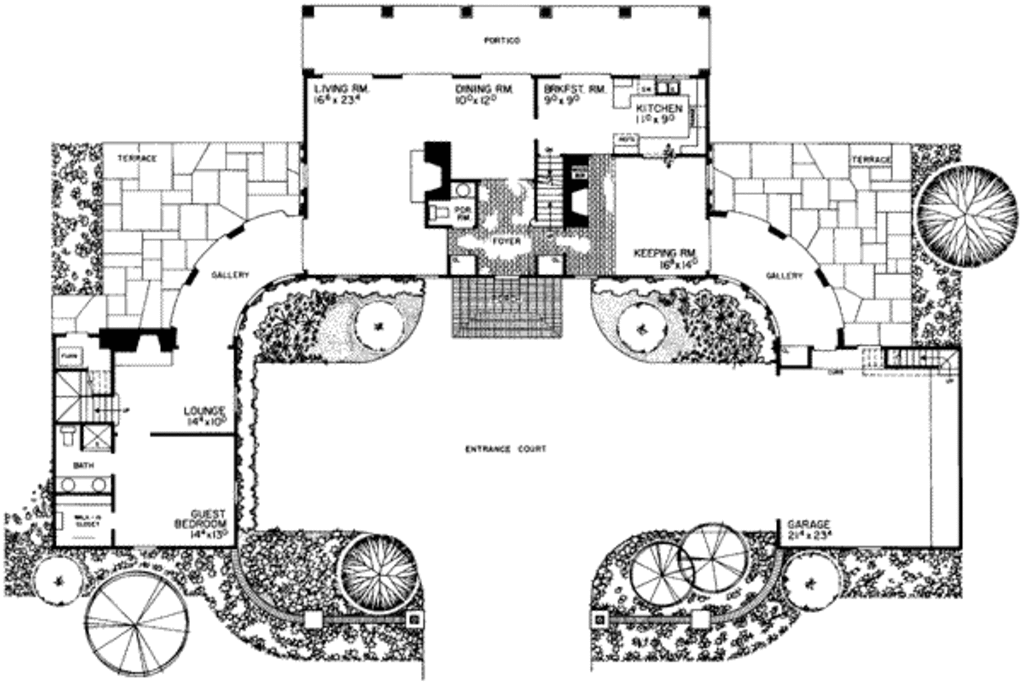large_sink: (57, 424, 81, 454)
small_sink: (56, 474, 113, 494)
stairs: (55, 367, 126, 426), (883, 341, 964, 385), (531, 146, 567, 225)
twin_sink: (651, 73, 683, 98)
